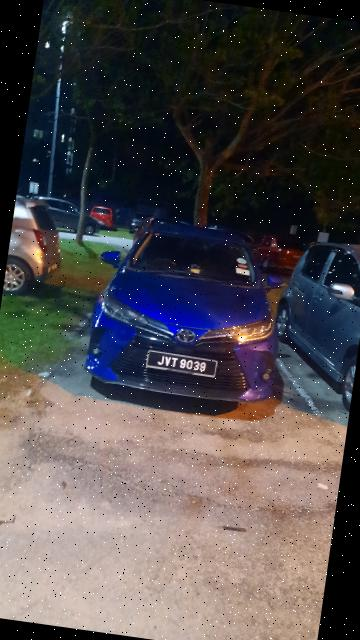License_Plate: (144, 349, 220, 381)
car: (82, 212, 299, 418)
